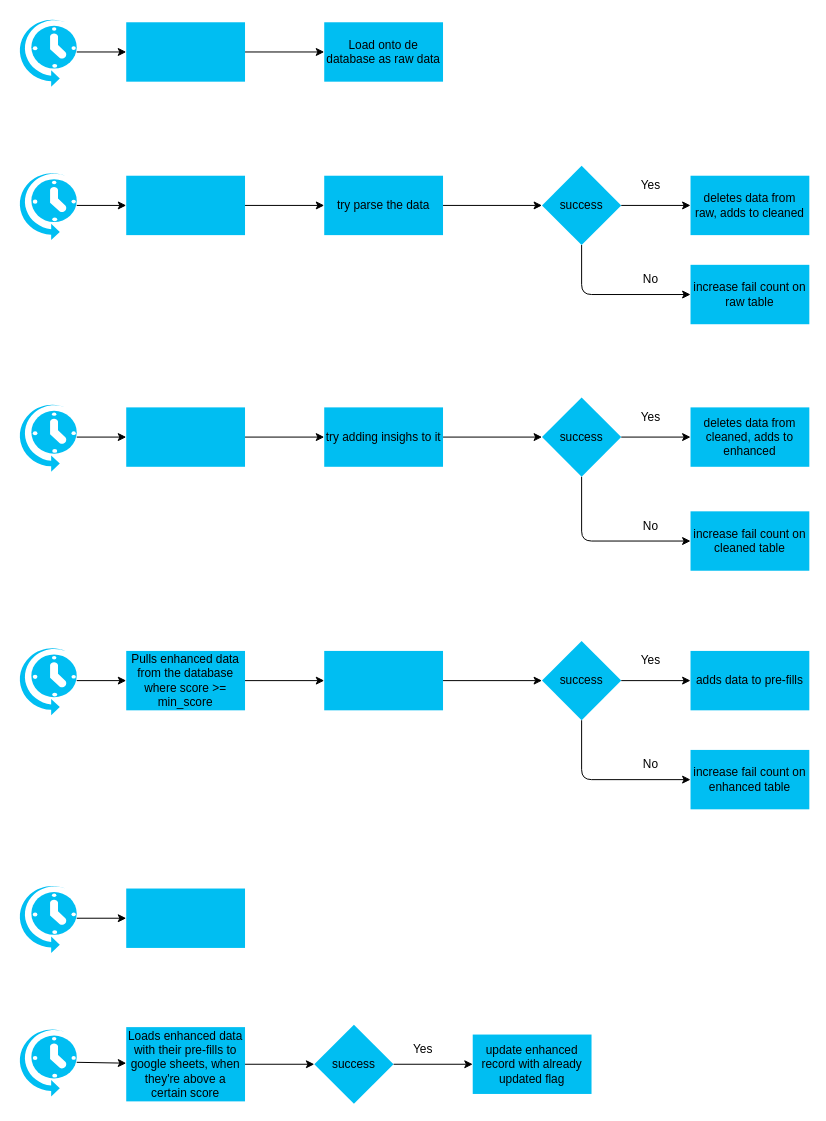
The diagram is 826 pixels wide and 1121 high, and some of its shapes have lost their labels. Each missing label, with the box of its shape:
Cleans up tables with fail count >= 3, or with score too low, if they're too old: (126, 888, 245, 947)
Pulls cleaned data from the database where fail count <= 3: (126, 407, 245, 466)
Pulls data from the feeds: (126, 22, 245, 81)
Pulls the oldest raw data in the database, where fail count <= 3: (126, 175, 245, 235)
try generate pre-fills for it: (324, 650, 443, 710)
